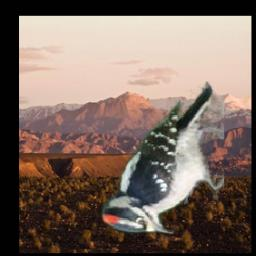Woodpecker: (99, 83, 223, 239)
